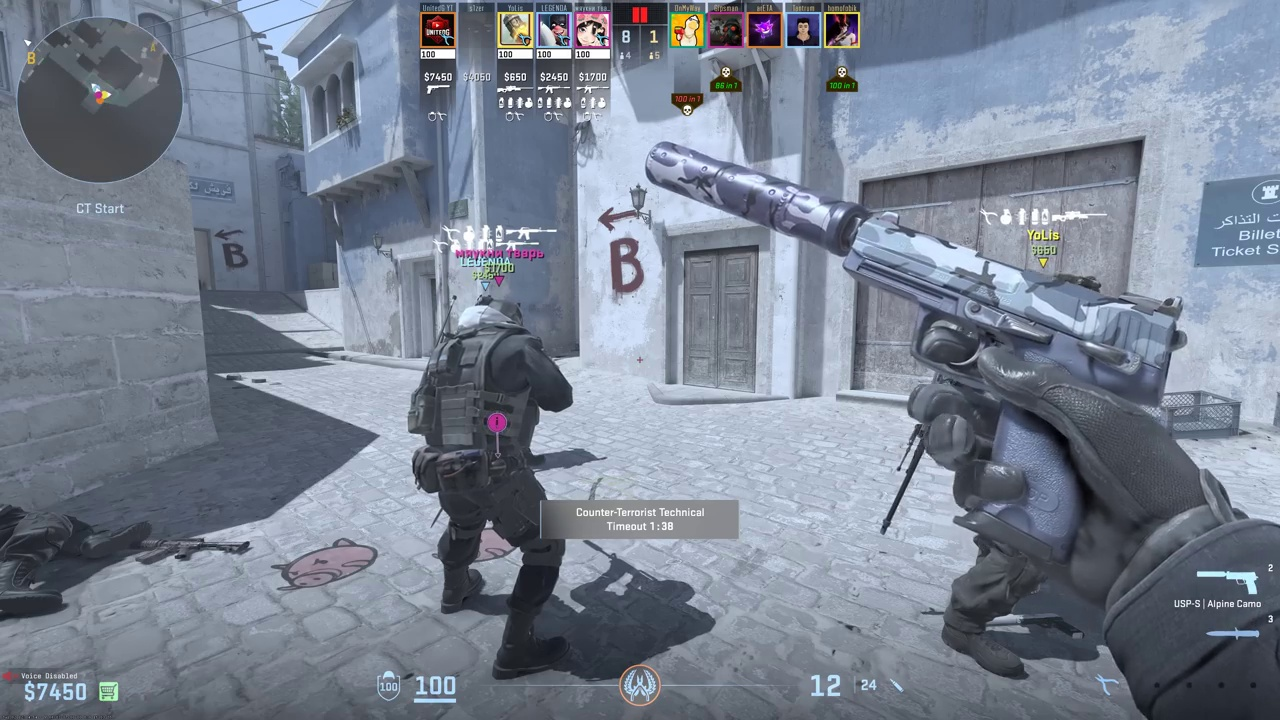CT: (432, 296, 568, 675)
